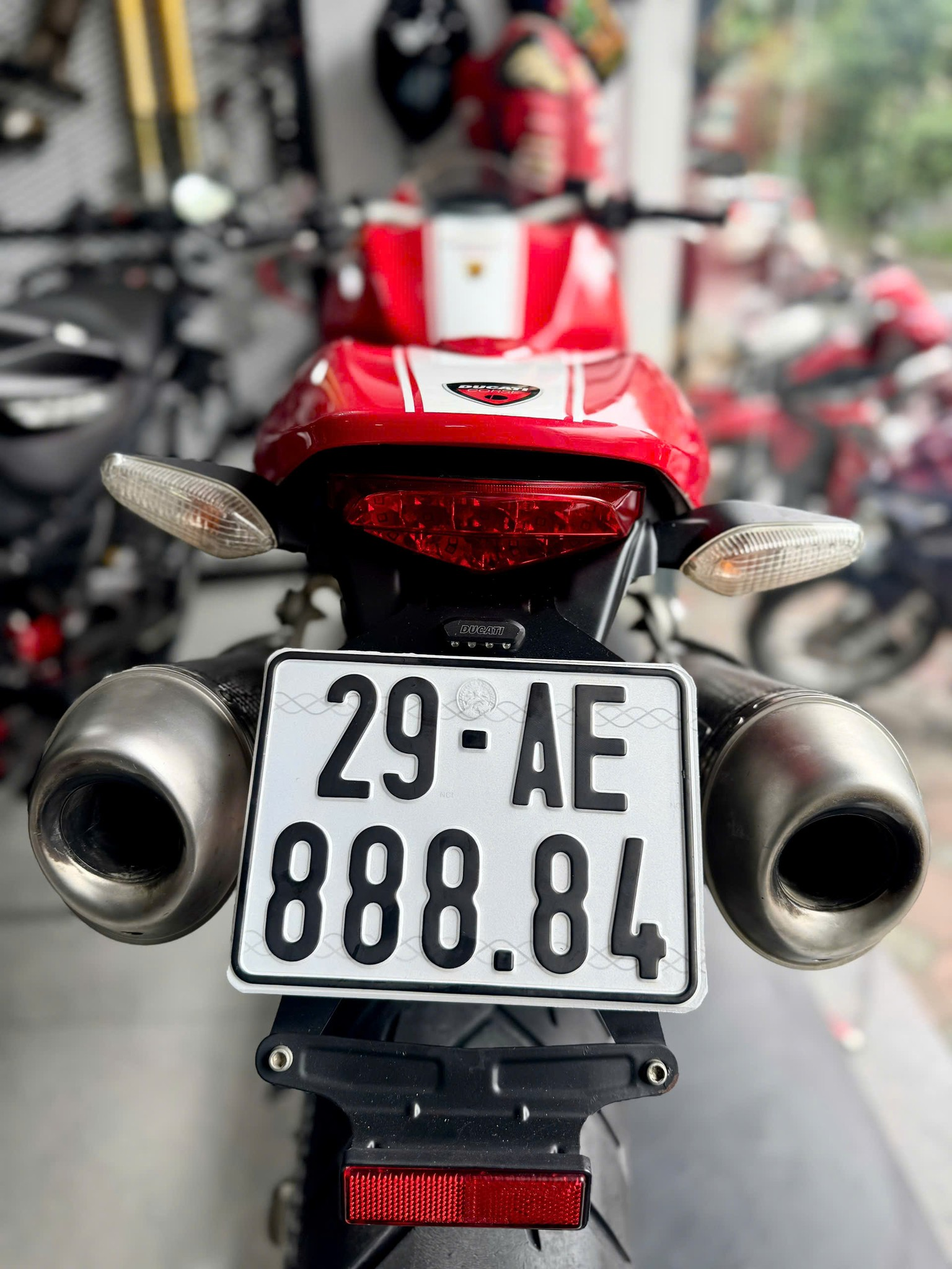bien_so: (216, 629, 730, 1036)
